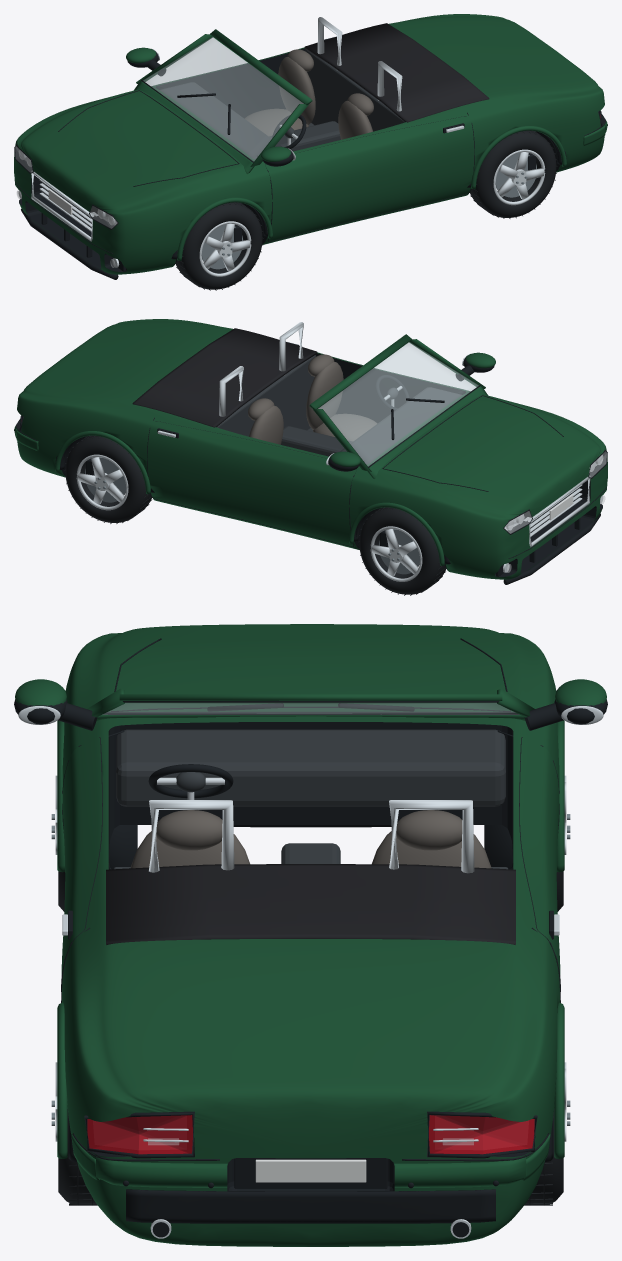
File: generic-convertible-roadster.glb
The picture shows the model from 3 angles, top to bottom: view 1: azimuth 30°, elevation 25°; view 2: azimuth 150°, elevation 25°; view 3: azimuth 270°, elevation 25°; orthographic projection. The views are drawn at different scales.
Visible parts, largest first — view 1: Original convertible_roadster fourteen-section body shell, Separate closed door panel, Raked transparent windscreen, Folded soft-top fabric boot cover, Original tyre carcass and shaped sidewalls, Original tyre carcass and shaped sidewalls.002, Separate closed door panel.001, Roadster rear cabin bulkhead, Sculpted instrument panel, Contoured seat back.001, Painted windscreen header rail, Center console (+18 smaller); view 2: Original convertible_roadster fourteen-section body shell, Separate closed door panel.001, Raked transparent windscreen, Folded soft-top fabric boot cover, Original tyre carcass and shaped sidewalls.001, Original tyre carcass and shaped sidewalls.003, Separate closed door panel, Roadster rear cabin bulkhead, Sculpted instrument panel, Contoured seat back, Center console, Painted windscreen header rail (+18 smaller); view 3: Original convertible_roadster fourteen-section body shell, Folded soft-top fabric boot cover, Sculpted instrument panel, Sculpted rear lower bumper insert, Separate closed door panel, Separate closed door panel.001, Formed painted rear bumper cover, Raked transparent windscreen, Flush corner wrapping ruby lamp lens, Flush corner wrapping ruby lamp lens.001, Painted windscreen header rail, Rear registration plate (+23 smaller).
Part boxes in pixels (left/top/right/bottom): Original convertible_roadster fourteen-section body shell: left=14, top=14, right=605, bottom=274; Separate closed door panel: left=265, top=116, right=474, bottom=241; Raked transparent windscreen: left=143, top=37, right=303, bottom=161; Folded soft-top fabric boot cover: left=304, top=23, right=489, bottom=122; Original tyre carcass and shaped sidewalls: left=176, top=202, right=262, bottom=289; Original tyre carcass and shaped sidewalls.002: left=470, top=130, right=556, bottom=217; Separate closed door panel.001: left=160, top=50, right=305, bottom=118; Roadster rear cabin bulkhead: left=306, top=50, right=404, bottom=131; Sculpted instrument panel: left=160, top=82, right=282, bottom=159; Contoured seat back.001: left=278, top=57, right=315, bottom=124; Painted windscreen header rail: left=210, top=29, right=312, bottom=105; Center console: left=269, top=121, right=340, bottom=151; Original convertible_roadster fourteen-section body shell: left=16, top=319, right=607, bottom=579; Separate closed door panel.001: left=147, top=421, right=356, bottom=546; Raked transparent windscreen: left=318, top=342, right=478, bottom=466; Folded soft-top fabric boot cover: left=132, top=328, right=317, bottom=427; Original tyre carcass and shaped sidewalls.001: left=359, top=507, right=445, bottom=594; Original tyre carcass and shaped sidewalls.003: left=65, top=435, right=151, bottom=522; Separate closed door panel: left=316, top=353, right=461, bottom=423; Roadster rear cabin bulkhead: left=217, top=355, right=315, bottom=436; Sculpted instrument panel: left=339, top=387, right=461, bottom=464; Contoured seat back: left=306, top=362, right=343, bottom=429; Center console: left=281, top=426, right=352, bottom=456; Painted windscreen header rail: left=309, top=334, right=411, bottom=410; Original convertible_roadster fourteen-section body shell: left=62, top=624, right=559, bottom=1246; Folded soft-top fabric boot cover: left=106, top=864, right=515, bottom=944; Sculpted instrument panel: left=116, top=729, right=505, bottom=806; Sculpted rear lower bumper insert: left=126, top=1189, right=495, bottom=1223; Separate closed door panel: left=61, top=737, right=108, bottom=979; Separate closed door panel.001: left=513, top=737, right=560, bottom=979; Formed painted rear bumper cover: left=96, top=1157, right=525, bottom=1187; Raked transparent windscreen: left=103, top=702, right=518, bottom=714; Flush corner wrapping ruby lamp lens: left=87, top=1115, right=192, bottom=1154; Flush corner wrapping ruby lamp lens.001: left=429, top=1115, right=534, bottom=1154; Painted windscreen header rail: left=119, top=694, right=502, bottom=700; Rear registration plate: left=255, top=1159, right=366, bottom=1182.
Bounding box in the file's own units: 4.1 × 1.22 × 2.09.
Materials: 12 (12 with a texture image).
